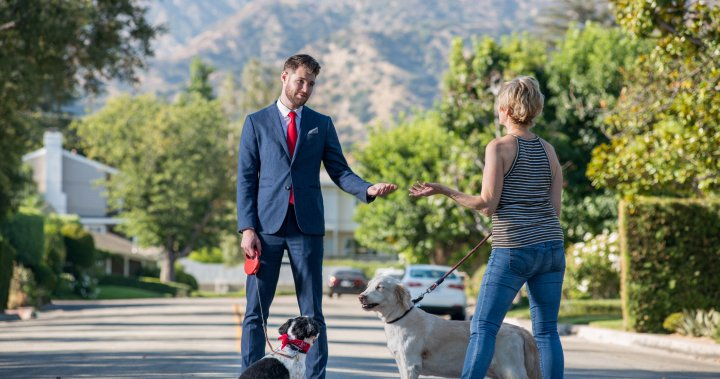Caution: (237, 52, 566, 379)
